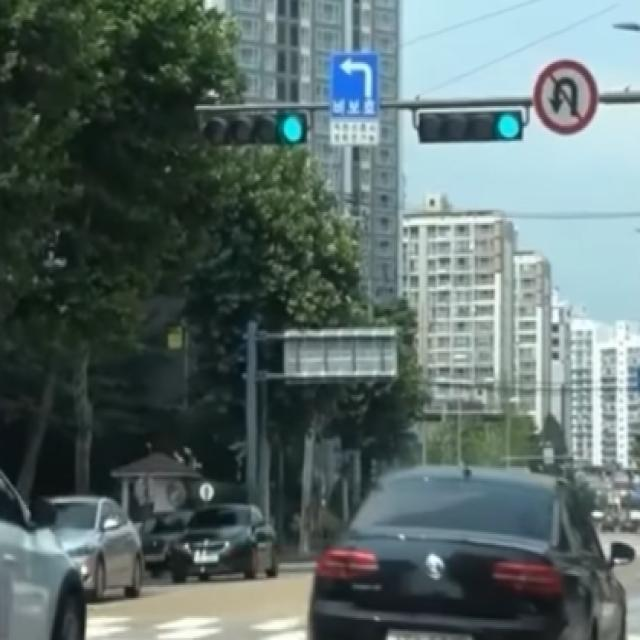Green Light: (276, 110, 305, 145), (496, 112, 524, 142)
